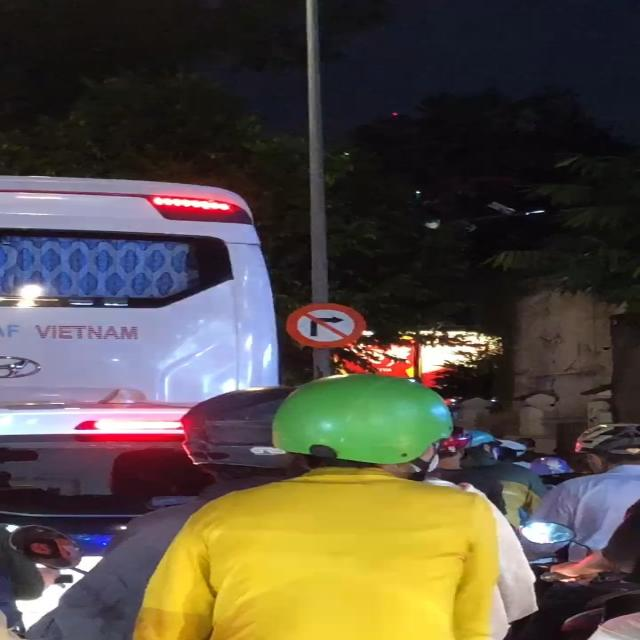Bien bao cam re phai: (280, 300, 374, 352)
